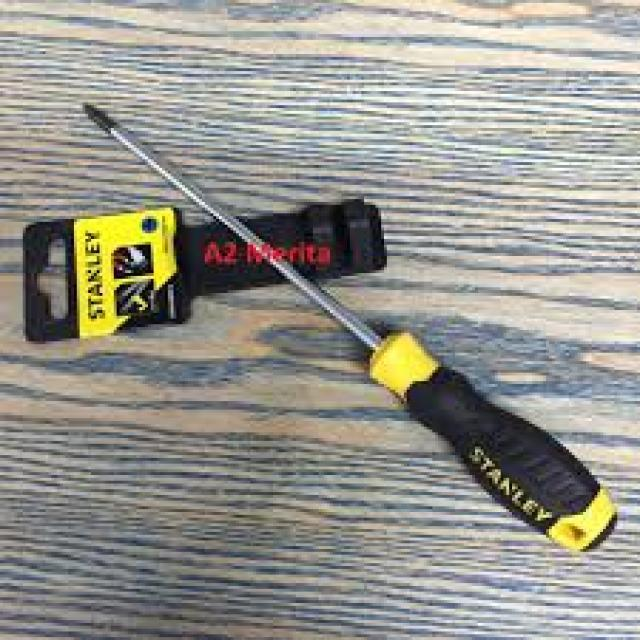screwdriver: (78, 97, 624, 558)
